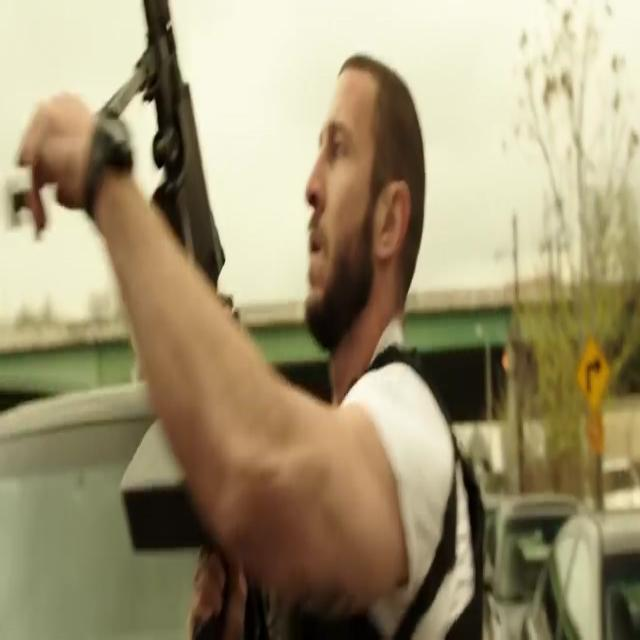Weapon: (79, 3, 240, 353)
